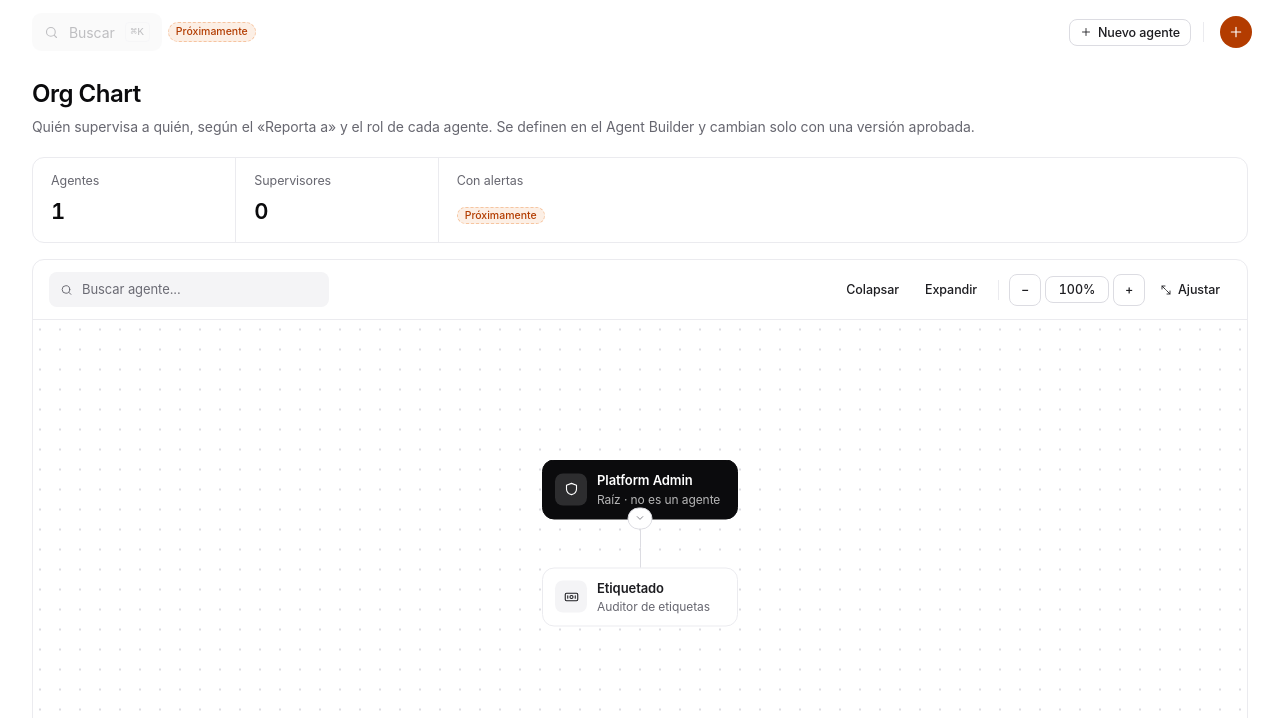
OrgChartPage › keeps "Editar" from a creator on an agent they can use and did not create
Click the button with aria-label "Etiquetado, Auditor de etiquetas" at (640, 597), box top-left (543, 568), bottom-right (737, 626)
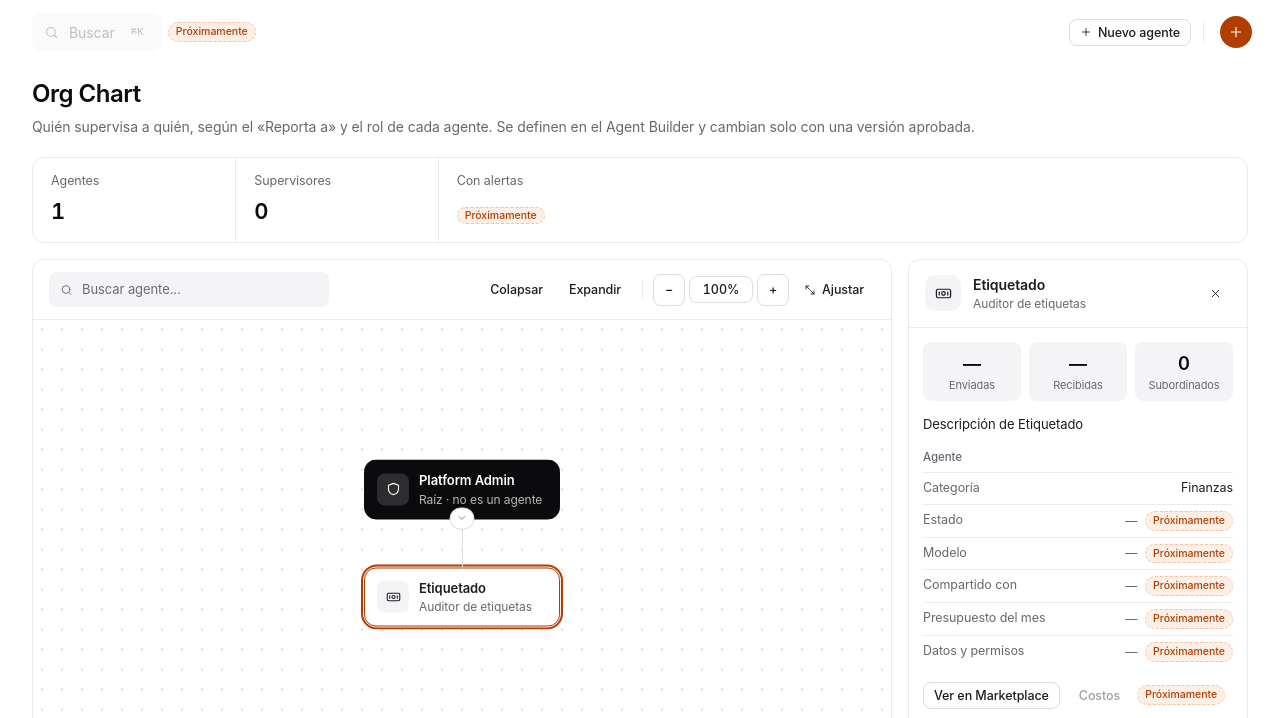
Expected: the link "Ver en Marketplace" is shown, top-left (923, 682), bottom-right (1060, 708)
